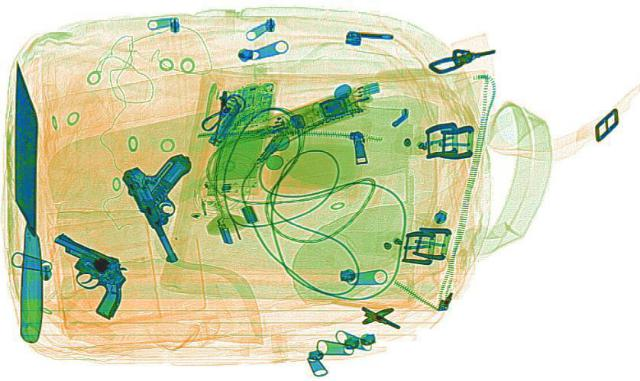Gun: (1, 231, 167, 318), (110, 152, 240, 261)
Knife: (7, 59, 43, 342)
